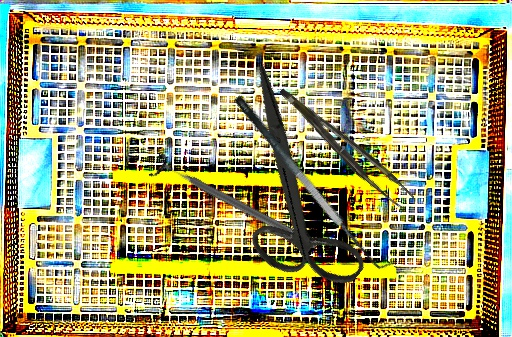Fixation Ring: (148, 150, 323, 259)
Iris Scissors: (164, 63, 422, 315)
Spatula Surgical: (231, 82, 397, 281)
Tissue Forceps: (279, 73, 416, 218)
